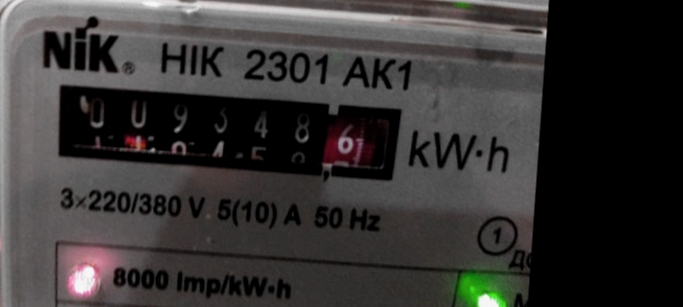0: (127, 95, 150, 132), (86, 94, 108, 130)
3: (209, 102, 233, 135)
4: (248, 104, 272, 143)
6: (335, 120, 359, 156)
8: (291, 109, 313, 145)
9: (170, 99, 190, 134)
screen: (31, 68, 422, 197)
